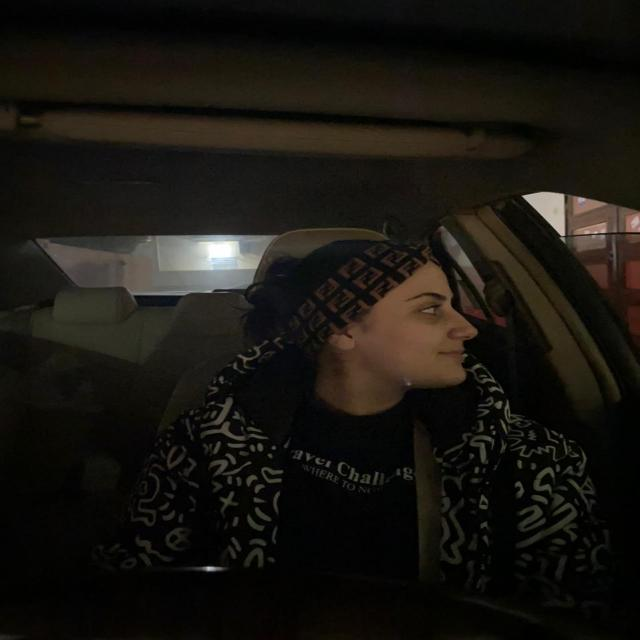LeftRight: (269, 218, 481, 410)
